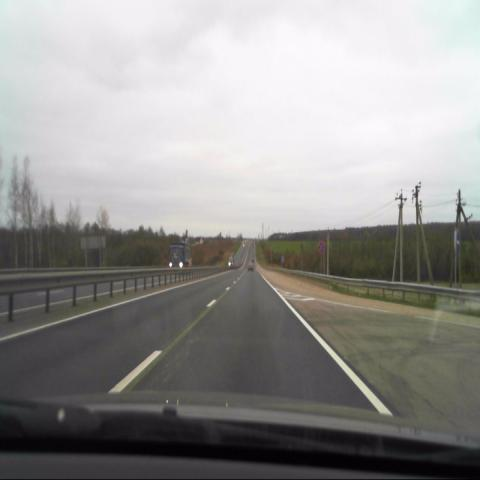4_1_2_1: (451, 230, 461, 257)
